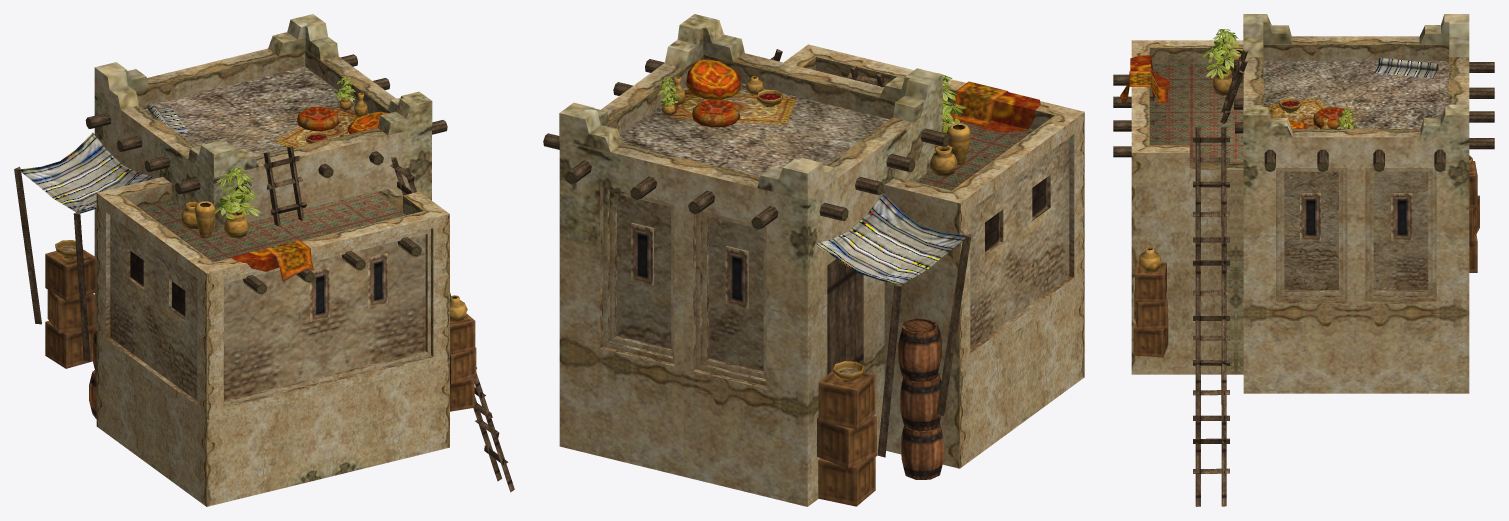
The model's file is pers_house.glb.
3 renders of one model, left to right at view 1: azimuth 30°, elevation 25°; view 2: azimuth 150°, elevation 25°; view 3: azimuth 270°, elevation 25°, orthographic. The views are drawn at different scales.
Parts seen in each view (by area): view 1: pers_house_part0, pers_house_part1; view 2: pers_house_part0, pers_house_part1; view 3: pers_house_part0, pers_house_part1.
Part boxes in pixels (bbox=[...]): pers_house_part0: bbox=[14, 14, 514, 506]; pers_house_part1: bbox=[214, 76, 355, 219]; pers_house_part0: bbox=[543, 14, 1084, 506]; pers_house_part1: bbox=[657, 73, 966, 133]; pers_house_part0: bbox=[1113, 14, 1494, 506]; pers_house_part1: bbox=[1201, 29, 1357, 128].
Size of the model in its own units: 2.4 by 2.46 by 2.32.
Materials: 2 (2 with a texture image).
